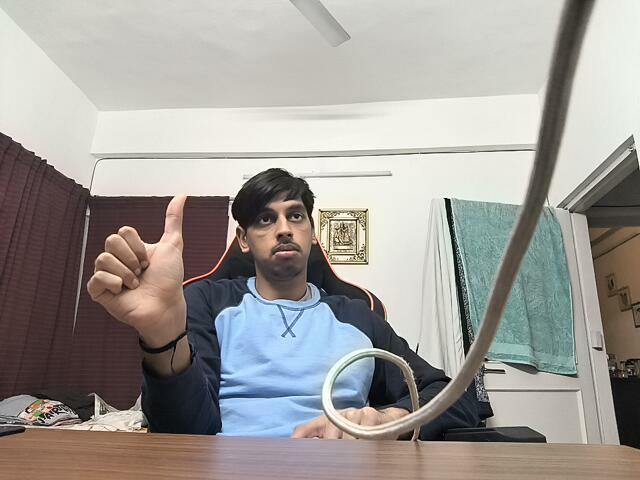LEFT: (86, 179, 203, 350)
